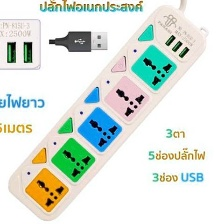three_eye_plug: (5, 0, 210, 224)
